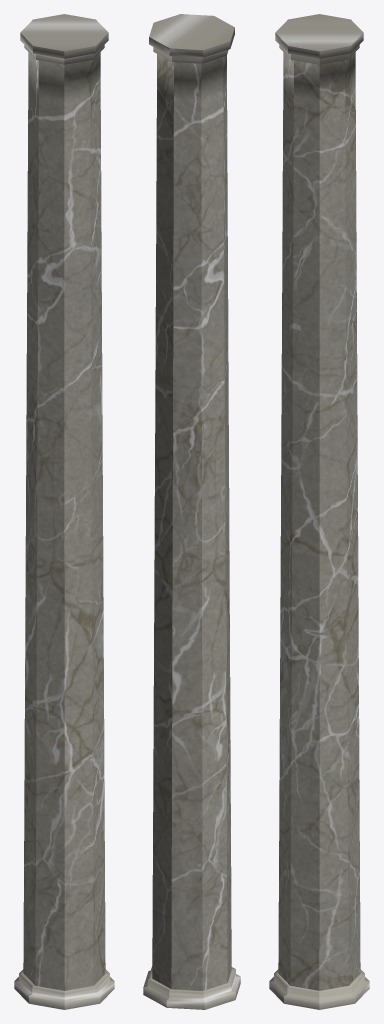
The model's file is SmallPillar.fbx.
3 views of the same model, side by side, from view 1: azimuth 90°, elevation 25°; view 2: azimuth 150°, elevation 25°; view 3: azimuth 270°, elevation 25° (orthographic).
Parts seen in each view (by area): view 1: Pilars.004; view 2: Pilars.004; view 3: Pilars.004.
Boxes of the visible parts, x1,y1,x2,y2 form: Pilars.004: (14,14,114,1009); Pilars.004: (143,14,240,1009); Pilars.004: (269,14,369,1009).
Bounding box in the file's own units: 277 × 2907 × 277.
